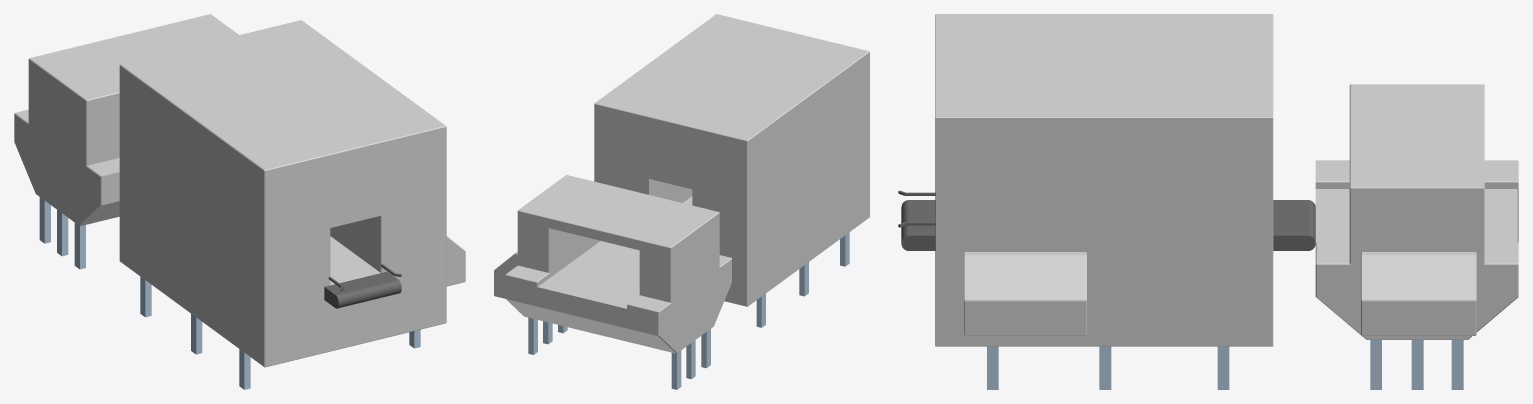
The model's file is DisposalSpot.fbx.
3 renders of one model, left to right at view 1: azimuth 30°, elevation 25°; view 2: azimuth 150°, elevation 25°; view 3: azimuth 270°, elevation 25°, orthographic. The views are drawn at different scales.
Parts seen in each view (by area): view 1: assembly.386, assembly.364, assembly.366, assembly.388, assembly.216, assembly.214, assembly.215, assembly.220, assembly.222, assembly.221; view 2: assembly.386, assembly.364, assembly.387, assembly.214, assembly.217, assembly.215, assembly.216; view 3: assembly.386, assembly.364, assembly.388, assembly.387, assembly.365, assembly.366, assembly.217, assembly.218, assembly.219, assembly.224, assembly.223, assembly.225.
Boxes of the visible parts, <box> form: assembly.386: <box>119,20,446,367</box>; assembly.364: <box>14,14,238,226</box>; assembly.366: <box>324,271,401,308</box>; assembly.388: <box>446,236,465,286</box>; assembly.216: <box>74,223,85,269</box>; assembly.214: <box>39,197,50,243</box>; assembly.215: <box>57,210,68,256</box>; assembly.220: <box>140,276,151,317</box>; assembly.222: <box>239,349,250,389</box>; assembly.221: <box>191,314,202,354</box>; assembly.386: <box>594,14,869,306</box>; assembly.364: <box>505,175,731,353</box>; assembly.387: <box>494,252,517,298</box>; assembly.214: <box>671,351,681,389</box>; assembly.217: <box>528,317,537,354</box>; assembly.215: <box>686,340,695,379</box>; assembly.216: <box>701,329,710,368</box>; assembly.386: <box>935,14,1273,346</box>; assembly.364: <box>1315,84,1518,339</box>; assembly.388: <box>964,252,1086,335</box>; assembly.387: <box>1361,252,1476,335</box>; assembly.365: <box>1273,200,1315,250</box>; assembly.366: <box>901,200,935,250</box>; assembly.217: <box>1451,340,1463,389</box>; assembly.218: <box>1411,340,1423,389</box>; assembly.219: <box>1370,340,1381,389</box>; assembly.224: <box>1099,346,1111,389</box>; assembly.223: <box>1217,346,1229,389</box>; assembly.225: <box>987,346,998,389</box>.
Bounding box in the file's own units: 170 × 179 × 367.
